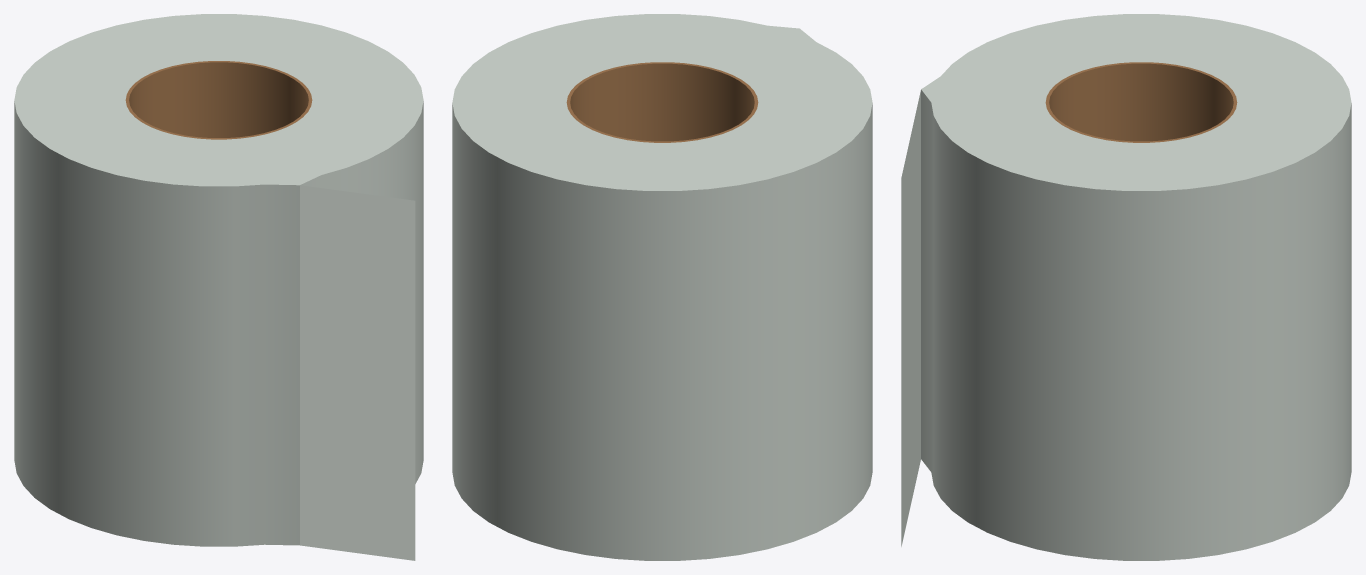
Rendered from Papel higienico(mesa).fbx.
The picture shows the model from 3 angles, left to right: view 1: azimuth 30°, elevation 25°; view 2: azimuth 150°, elevation 25°; view 3: azimuth 270°, elevation 25°; orthographic projection. The views are drawn at different scales.
Parts seen in each view (by area): view 1: Papel higienico; view 2: Papel higienico; view 3: Papel higienico.
Boxes of the visible parts, x1,y1,x2,y2 form: Papel higienico: (14,14,423,560); Papel higienico: (452,14,872,560); Papel higienico: (901,14,1351,560).
Size of the model in its own units: 30.39 by 32.42 by 32.64.
